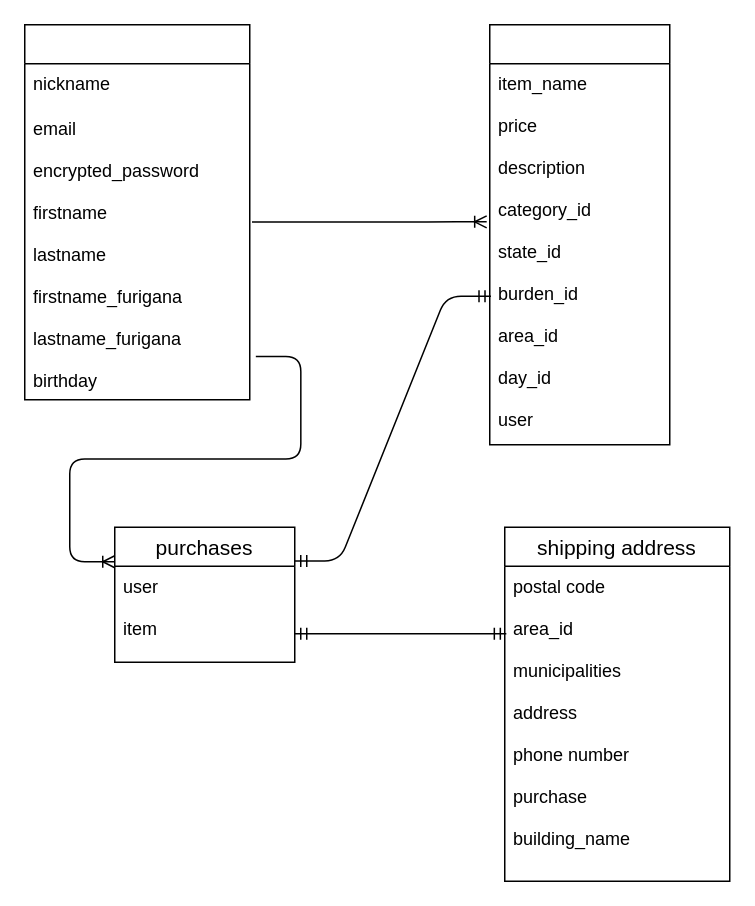
Some shapes in this 755 by 906 pixel diagram are drawn without their labels. Here are the shapes that lost their labels. From the top down, the box of each, then its label:
(23, 23, 250, 400): users
(488, 23, 670, 445): items
